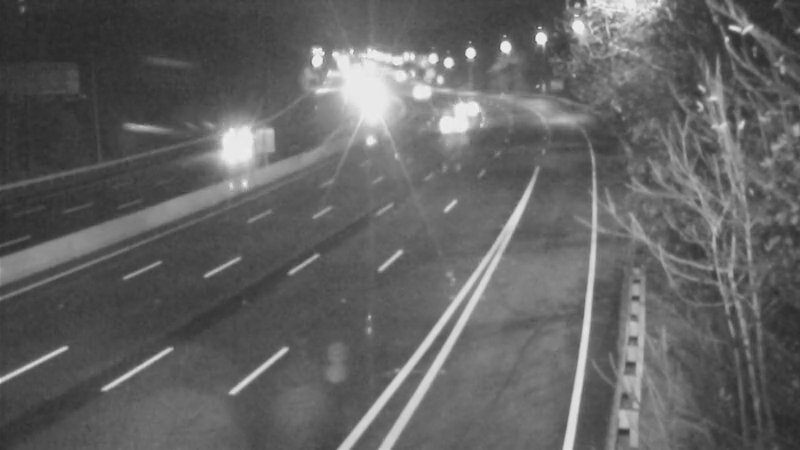vehicle: (396, 67, 446, 117), (440, 83, 490, 133), (429, 98, 479, 148), (204, 119, 254, 169)
